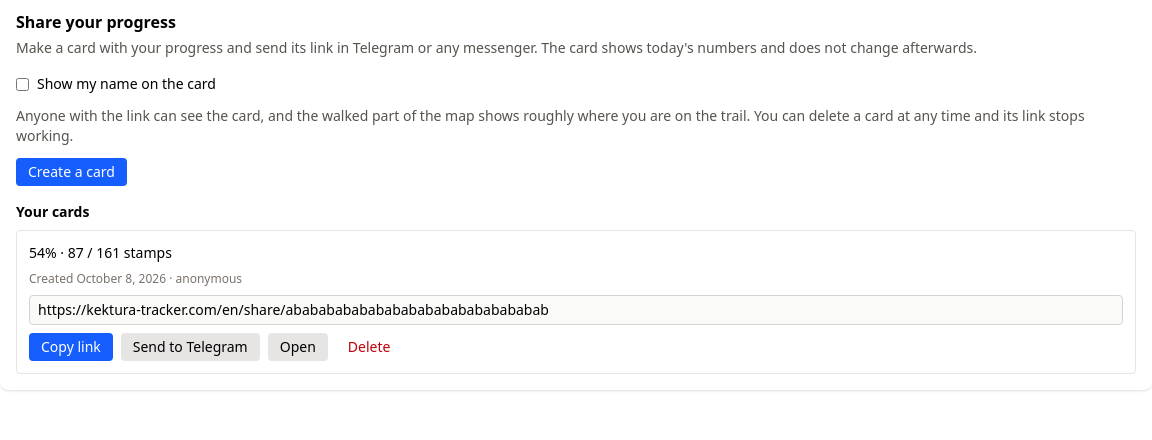
Test case: spec 0039: the share panel › AC-6: deleting a card › a failed delete says so and keeps the list as it is
Click the button "Delete": (369, 347) [336,333,402,361]
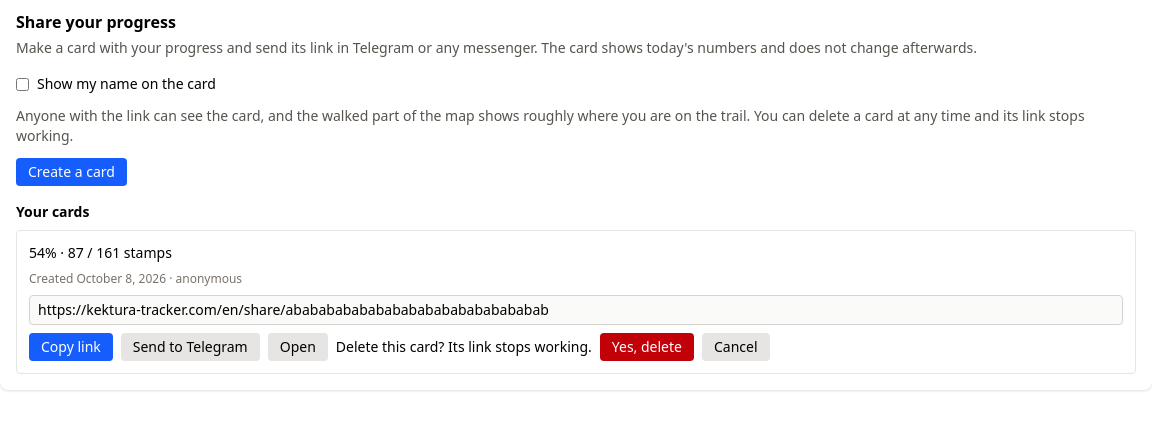
Click the button "Yes, delete": (647, 347) [600,333,694,361]
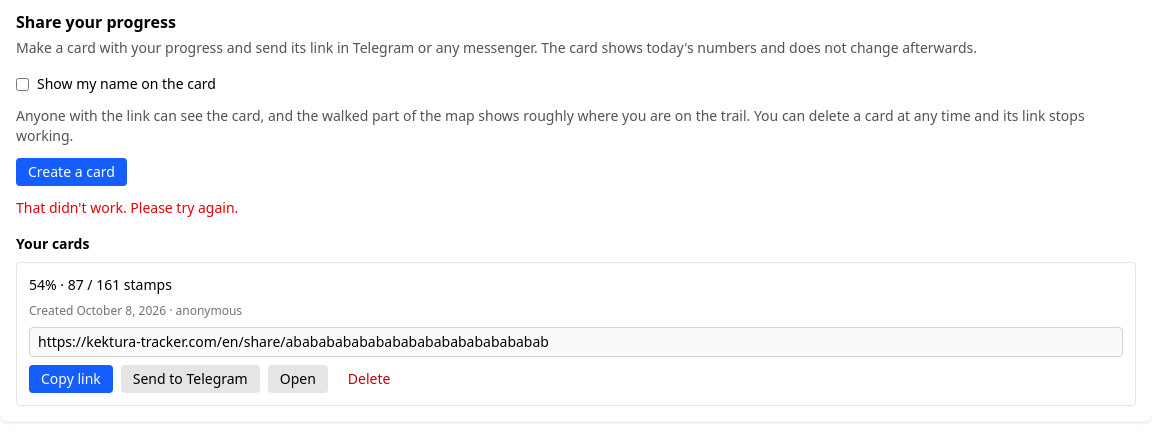
Result: the message reads "That didn't work. Please try again." at [16,198,238,217]
